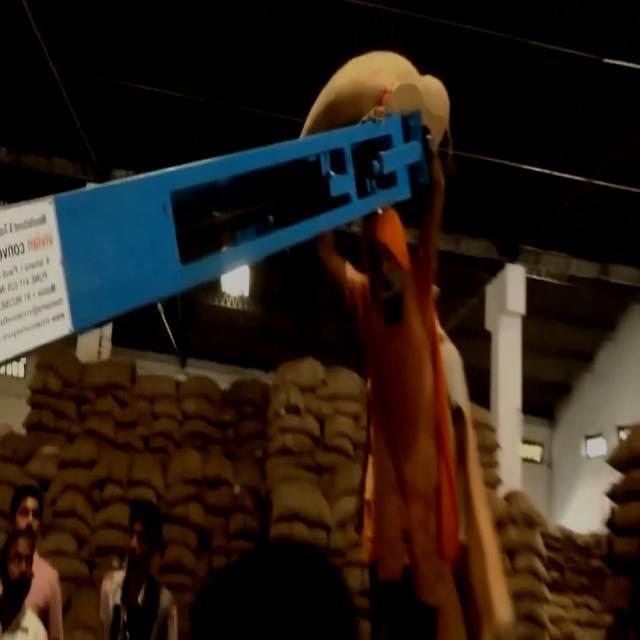gunny_bag: (292, 48, 452, 152)
